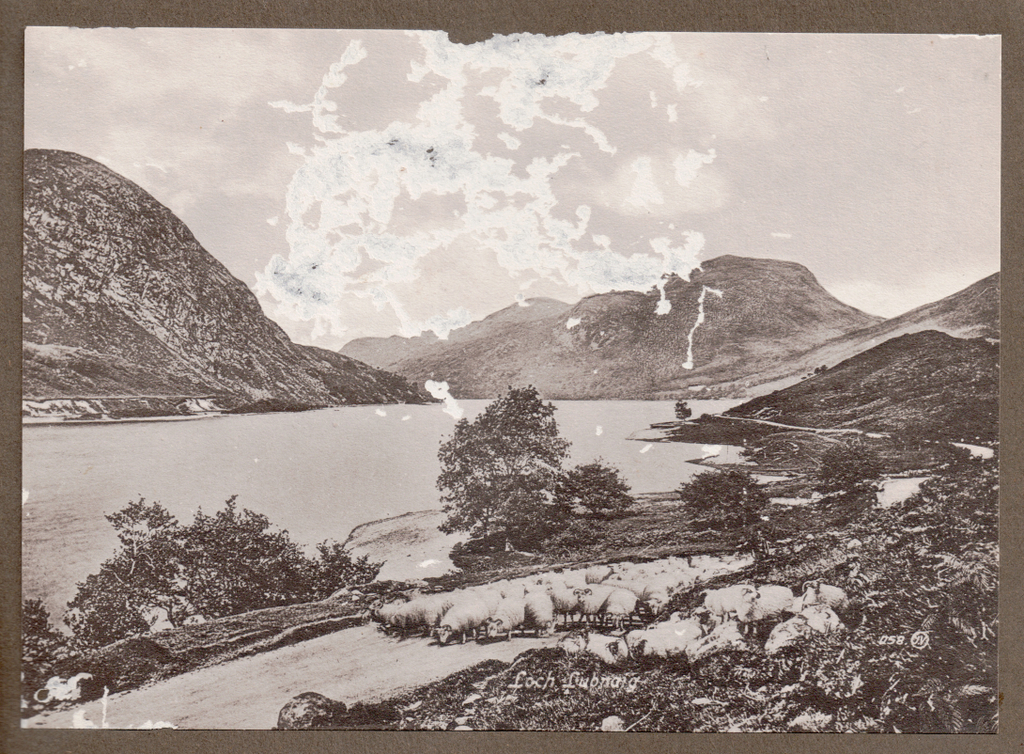Tree: (426, 370, 586, 573), (172, 492, 318, 630), (69, 499, 202, 639), (673, 461, 778, 530), (814, 434, 912, 500), (565, 450, 652, 520), (312, 537, 387, 597)
